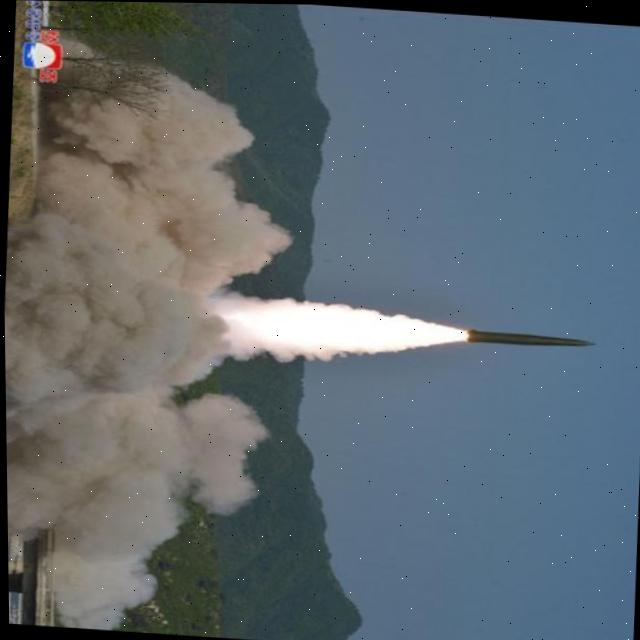missile: (462, 319, 600, 374)
